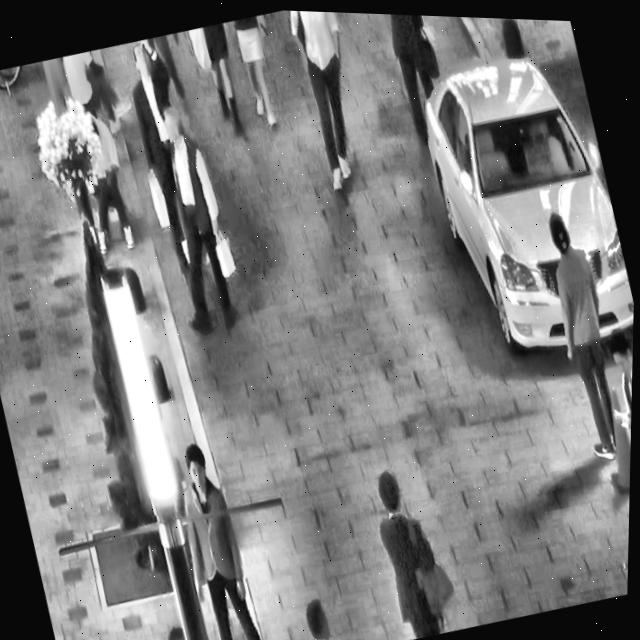light_vehicle: (398, 15, 640, 378)
